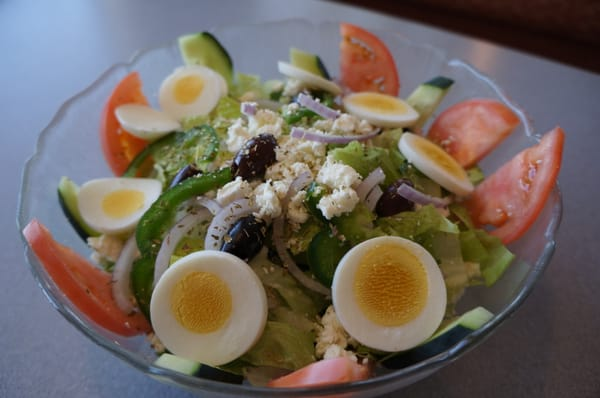sushi: (14, 17, 587, 391), (206, 45, 564, 391)
